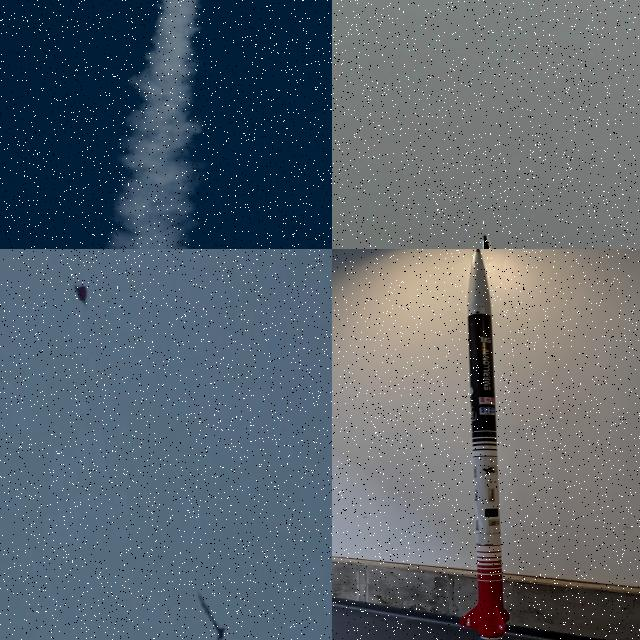Rocket: (460, 249, 510, 640), (196, 591, 226, 640), (480, 234, 500, 249)
